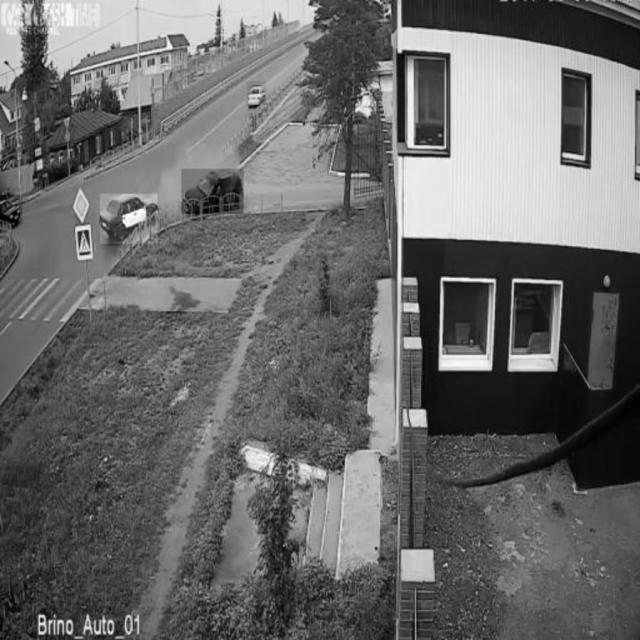vehicle: (100, 194, 157, 244), (182, 169, 244, 214), (1, 195, 23, 223), (247, 81, 265, 105)
